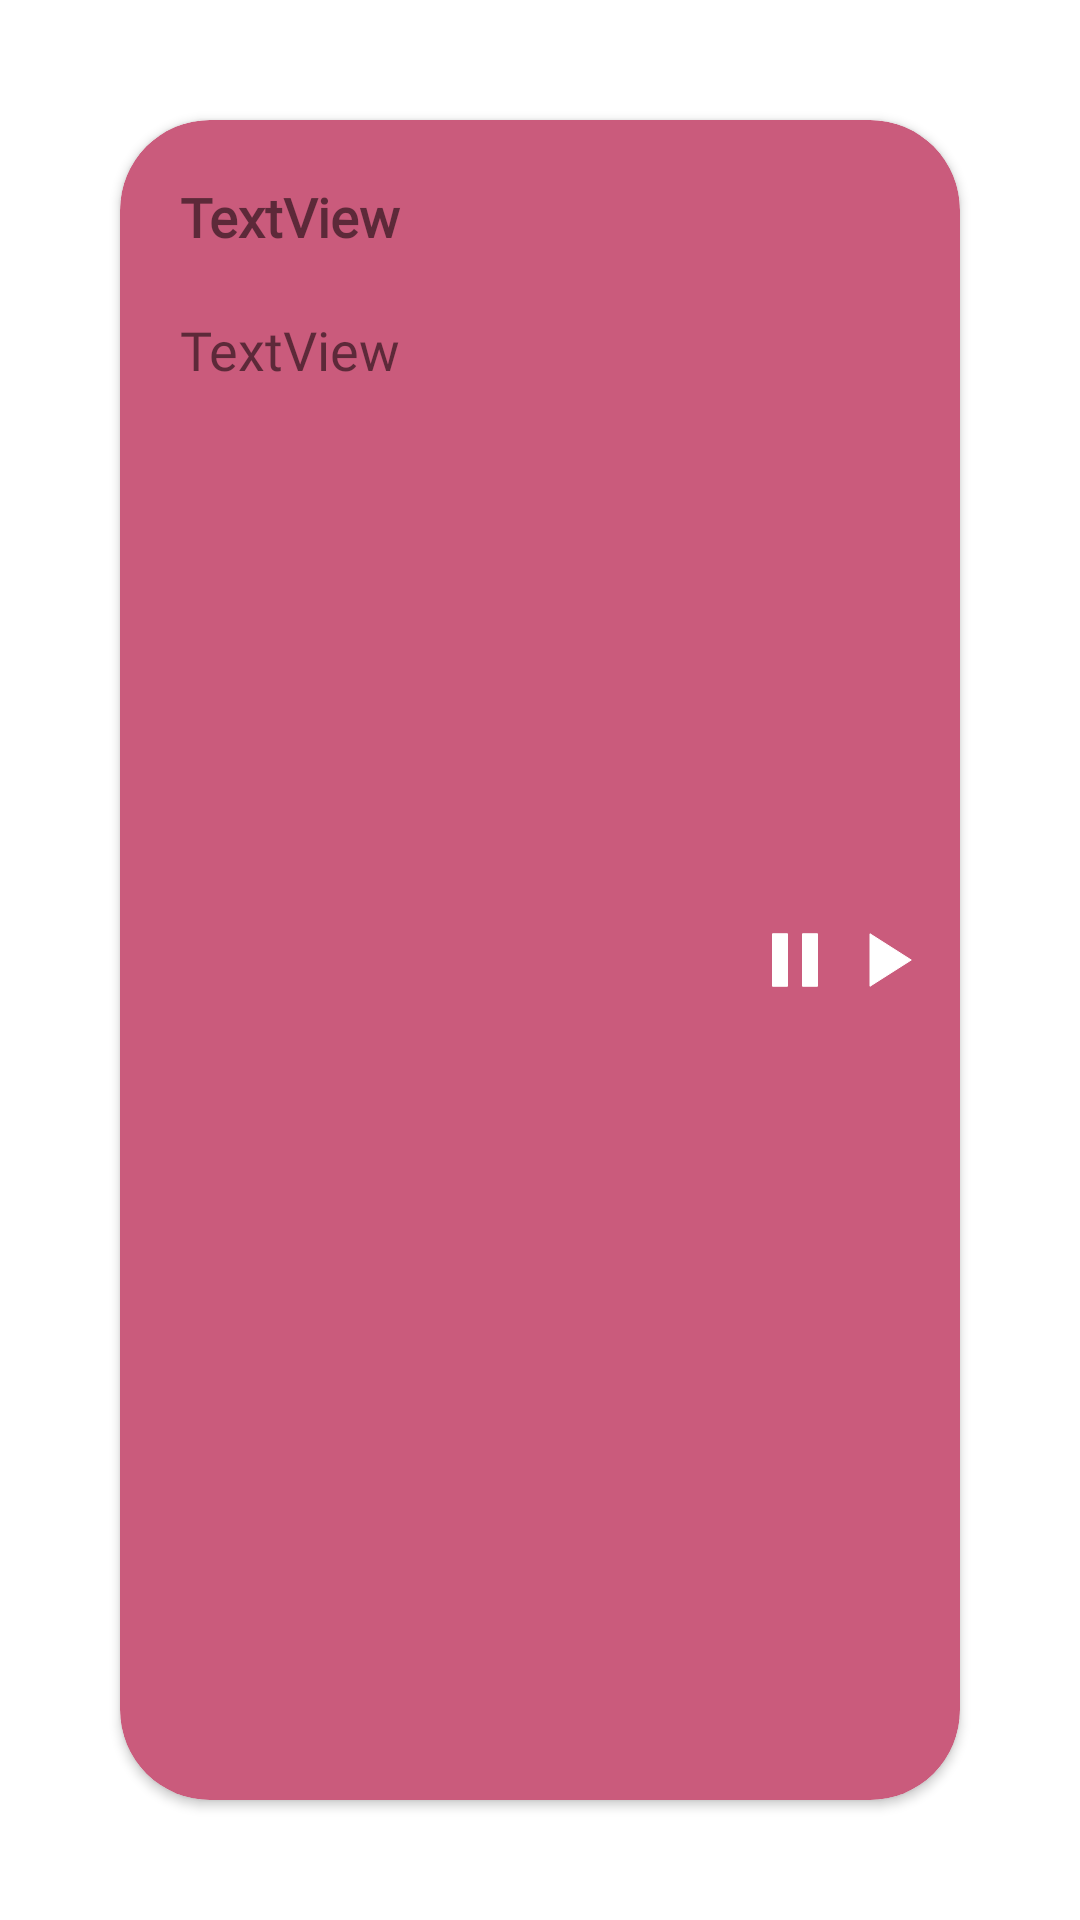

Screen size 1080×1920. Icon name, then its center in pixels as (x,y):
pause: (795,960)
play arrow: (890,960)
